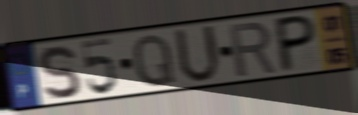5: (80, 35, 120, 98)
P: (275, 13, 318, 76)
Q: (131, 32, 178, 90)
R: (227, 20, 278, 79)
S: (36, 43, 82, 102)
U: (172, 23, 223, 86)
